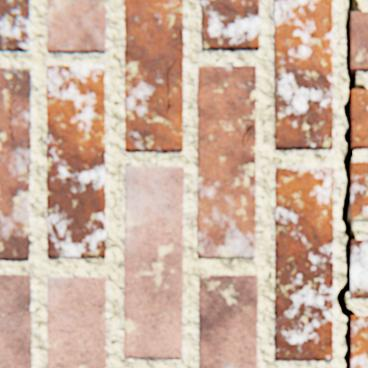brick: (48, 66, 107, 258), (125, 167, 184, 358), (275, 169, 333, 360), (198, 67, 256, 258), (126, 0, 184, 152), (275, 0, 332, 150), (0, 69, 32, 260), (200, 275, 258, 367), (48, 277, 107, 367), (48, 0, 107, 53), (0, 275, 33, 367), (201, 0, 259, 51), (0, 0, 31, 52), (350, 13, 367, 71), (350, 239, 367, 297), (350, 163, 367, 220), (351, 91, 367, 149), (351, 315, 367, 367)
crack: (336, 0, 366, 367), (167, 59, 177, 115), (10, 101, 16, 145), (242, 126, 252, 147), (352, 279, 360, 297)
